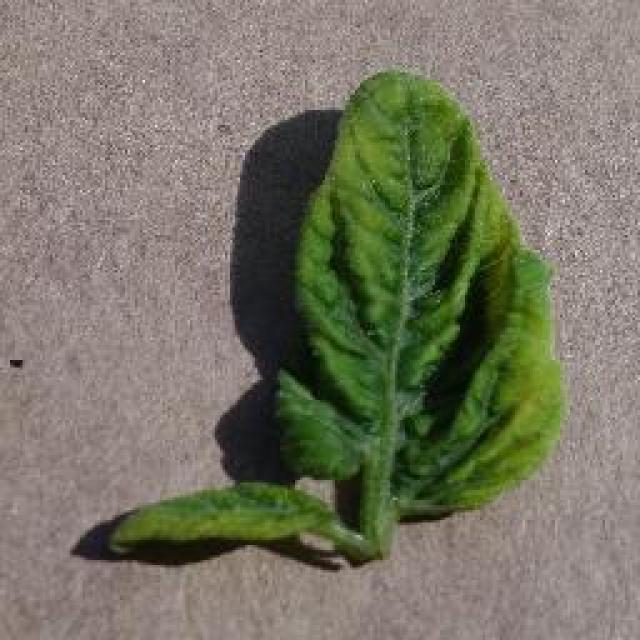Tomato yellow virus leaf: (272, 65, 568, 517), (106, 478, 339, 558)
